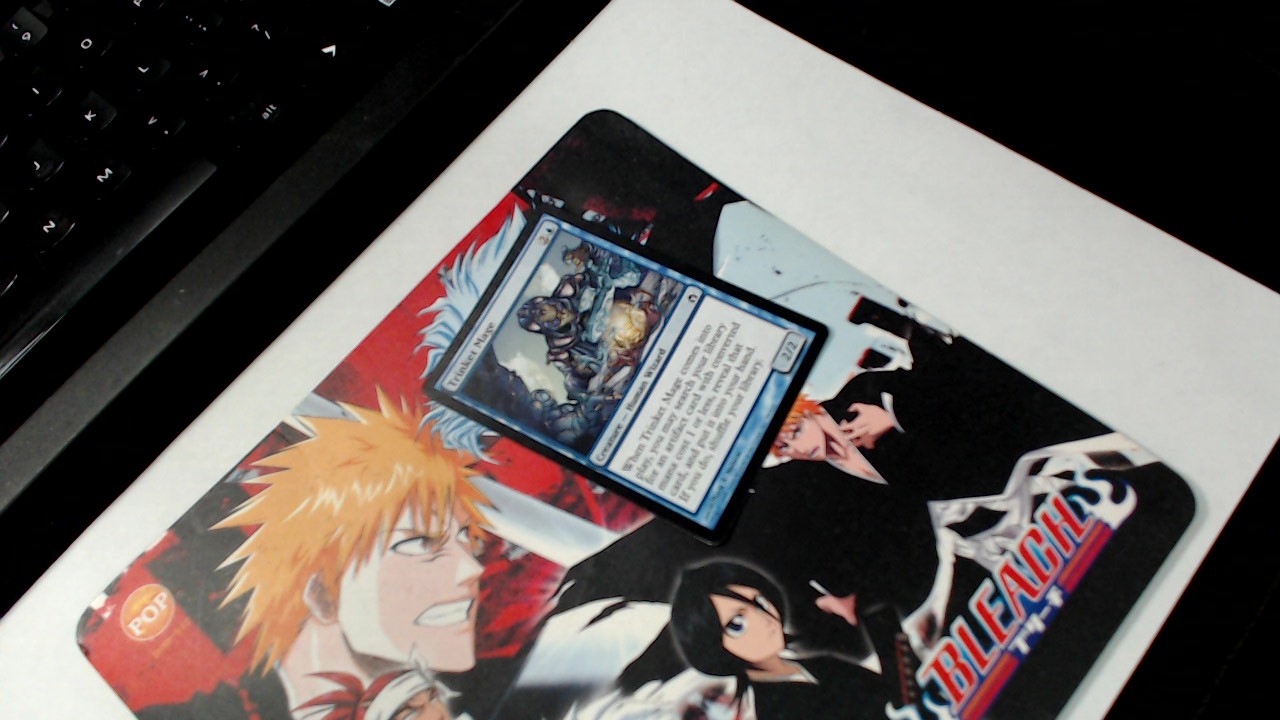MTG Card: (418, 201, 837, 552)
